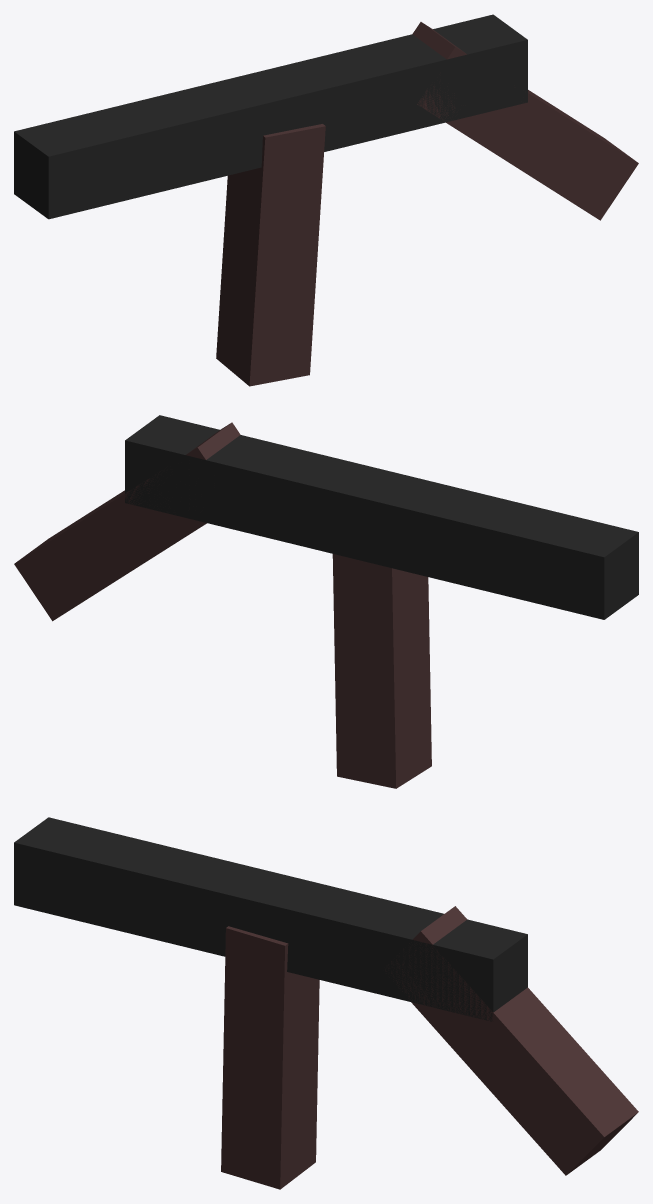
3 renders of one model, top to bottom at view 1: azimuth 30°, elevation 25°; view 2: azimuth 150°, elevation 25°; view 3: azimuth 330°, elevation 25°, orthographic.
Parts seen in each view (by area): view 1: Body, Mag, Grip; view 2: Body, Mag, Grip; view 3: Body, Mag, Grip.
Part boxes in pixels (box(x1,y1,x2,y2)): Body: box(14, 14, 527, 219); Mag: box(216, 124, 325, 386); Grip: box(412, 22, 638, 220); Body: box(125, 415, 638, 619); Mag: box(332, 554, 431, 788); Grip: box(14, 422, 240, 621); Body: box(14, 817, 527, 1021); Mag: box(221, 926, 319, 1189); Grip: box(385, 906, 638, 1175).
Size of the model in its own units: 123 by 58.83 by 14.7.
3 materials, 3 textured.
